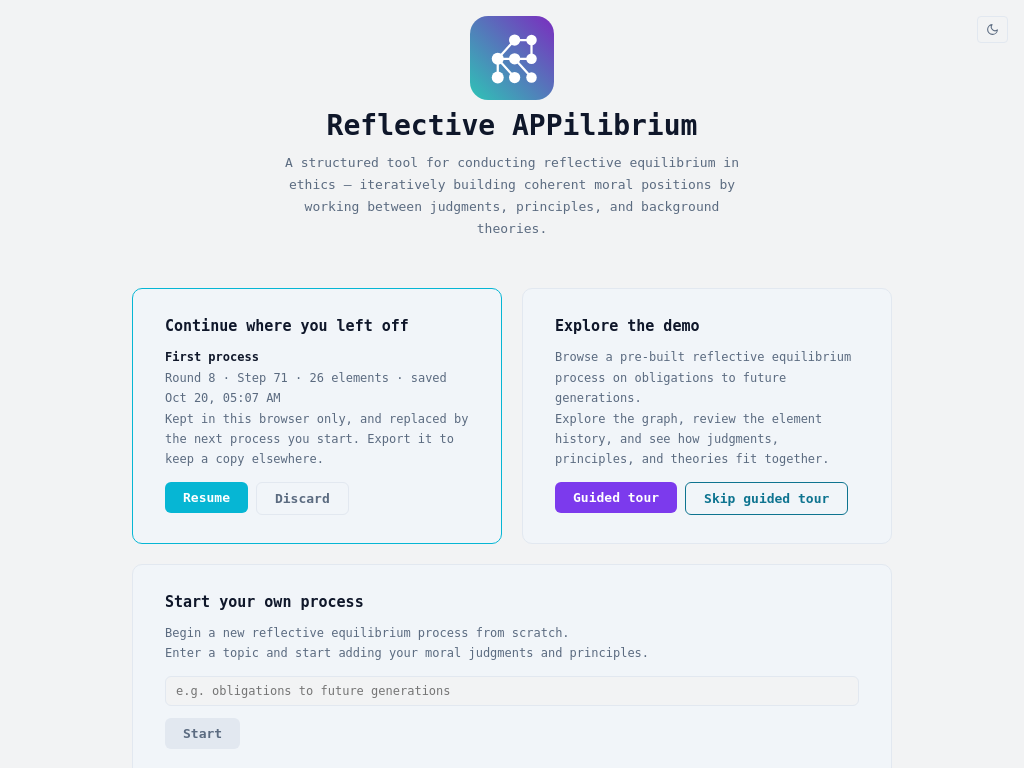
it: starting a new process › leaves the draft untouched on Cancel
Type "Second process" into the field named "Topic of your reflective equilibrium process".
click(512, 690); type("Second process")  # box [165,676,859,706]
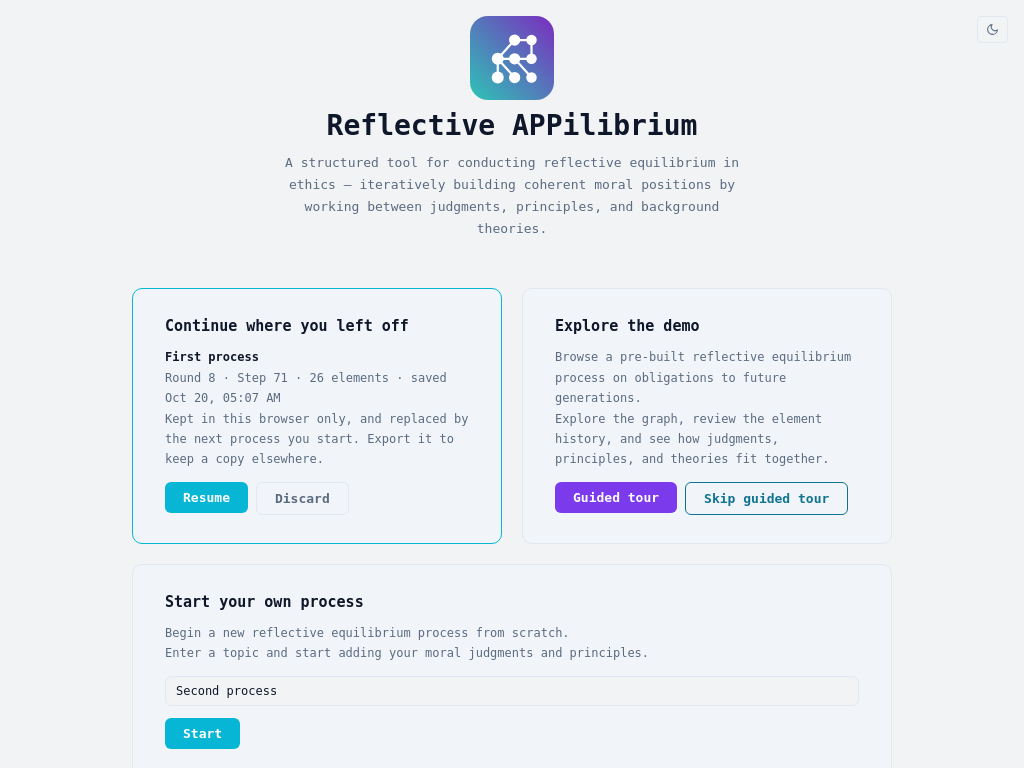
Click the button "Start".
click(203, 733)  # box [165,718,240,748]
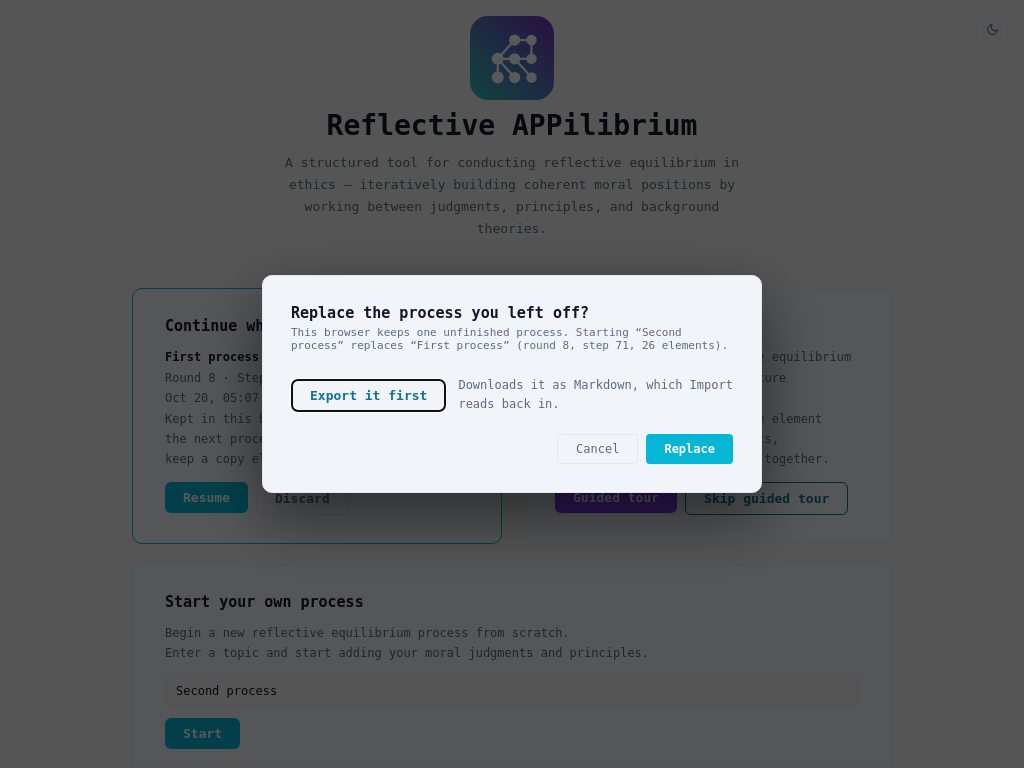
Click the button "Cancel".
click(598, 449)  # box [557,434,638,464]
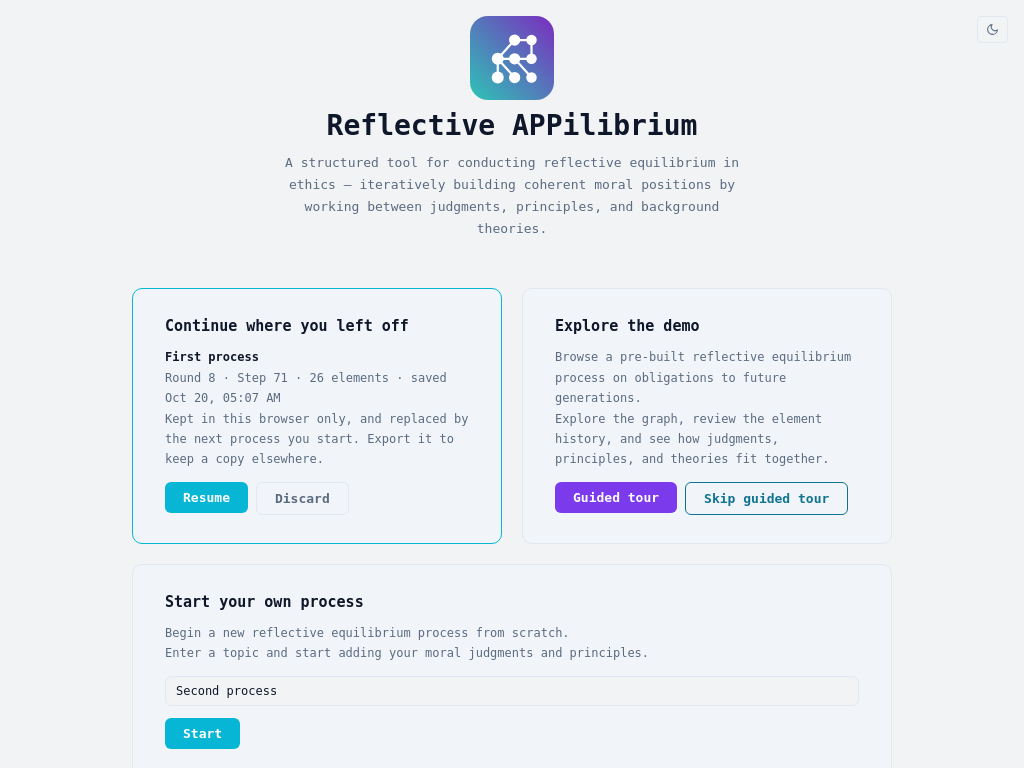
Expected: the text "First process" is shown, [165,350,259,364]
Result: the dialog is gone
